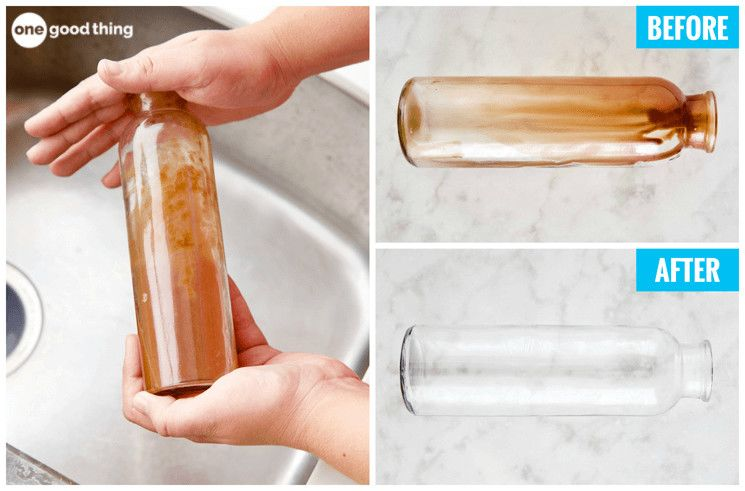glass_bottle: (112, 74, 254, 411), (394, 67, 729, 178), (395, 317, 725, 423)
